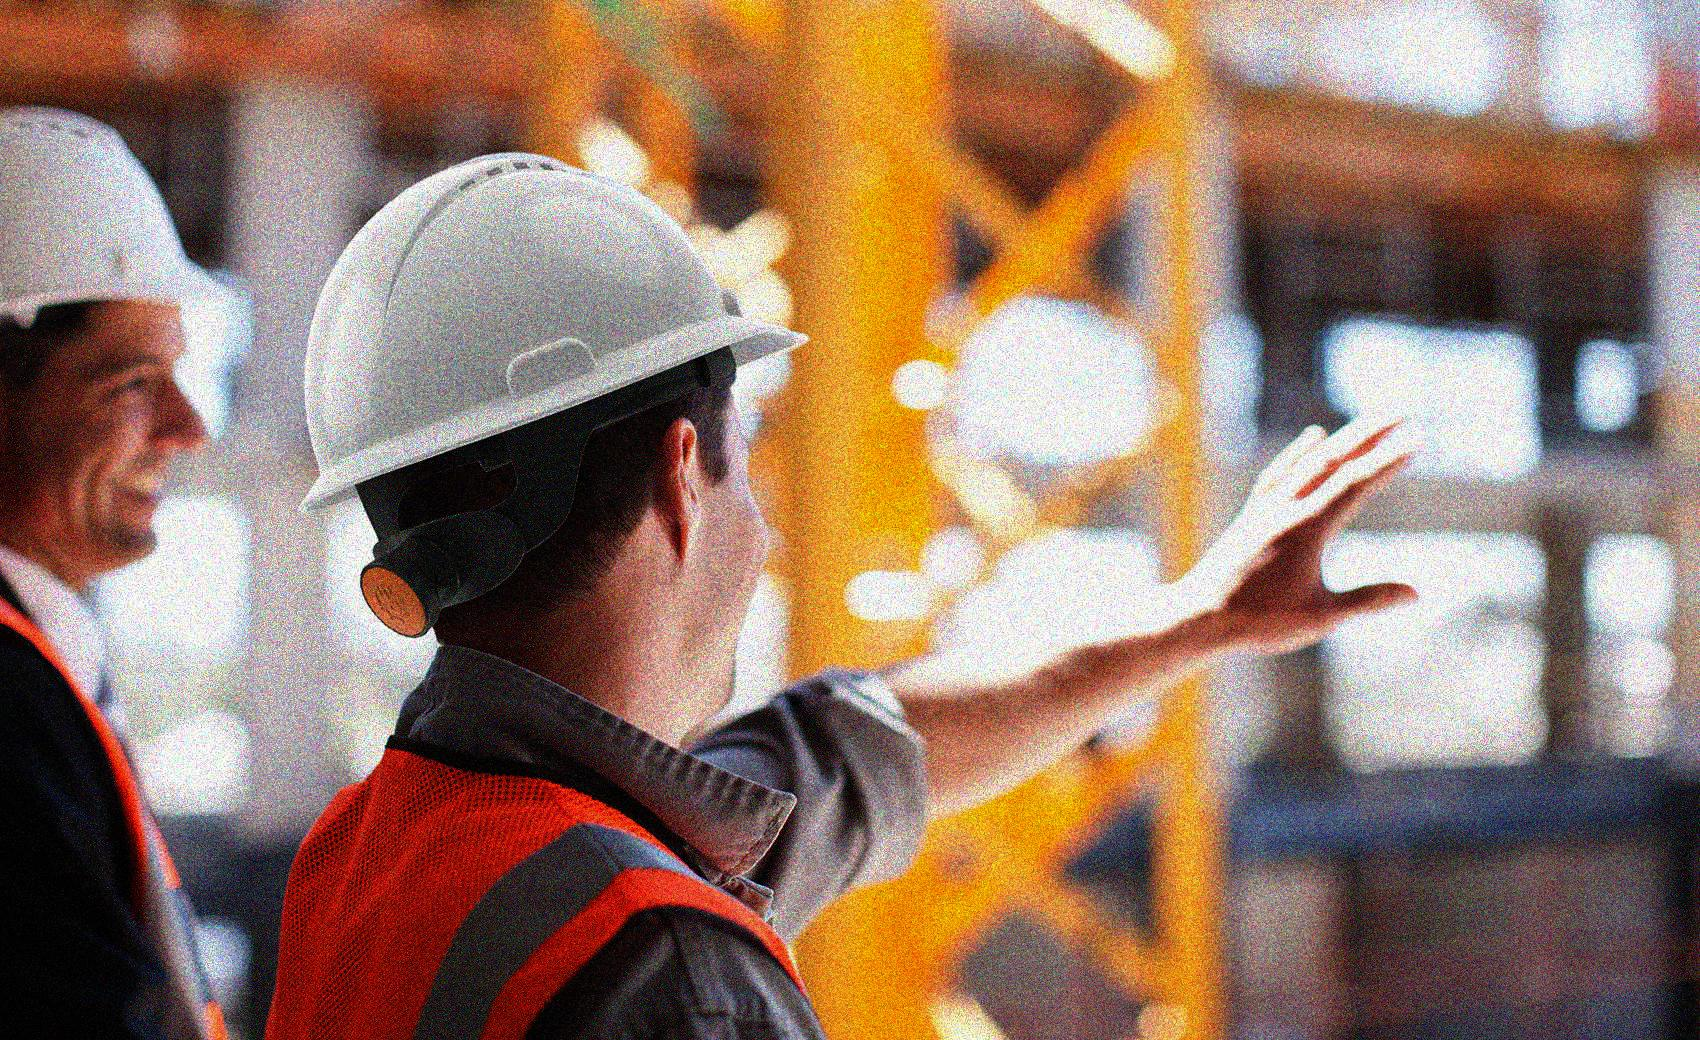helmet: (294, 148, 807, 720), (1, 107, 240, 567)
